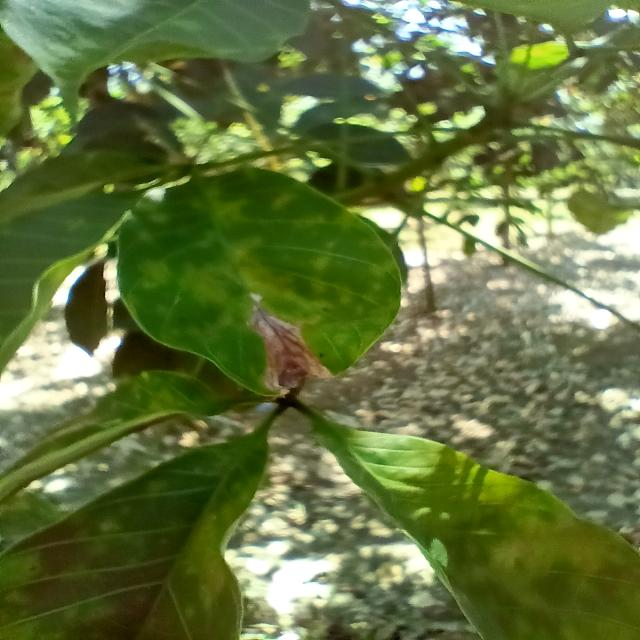Leaf-Blight: (248, 306, 334, 397)
